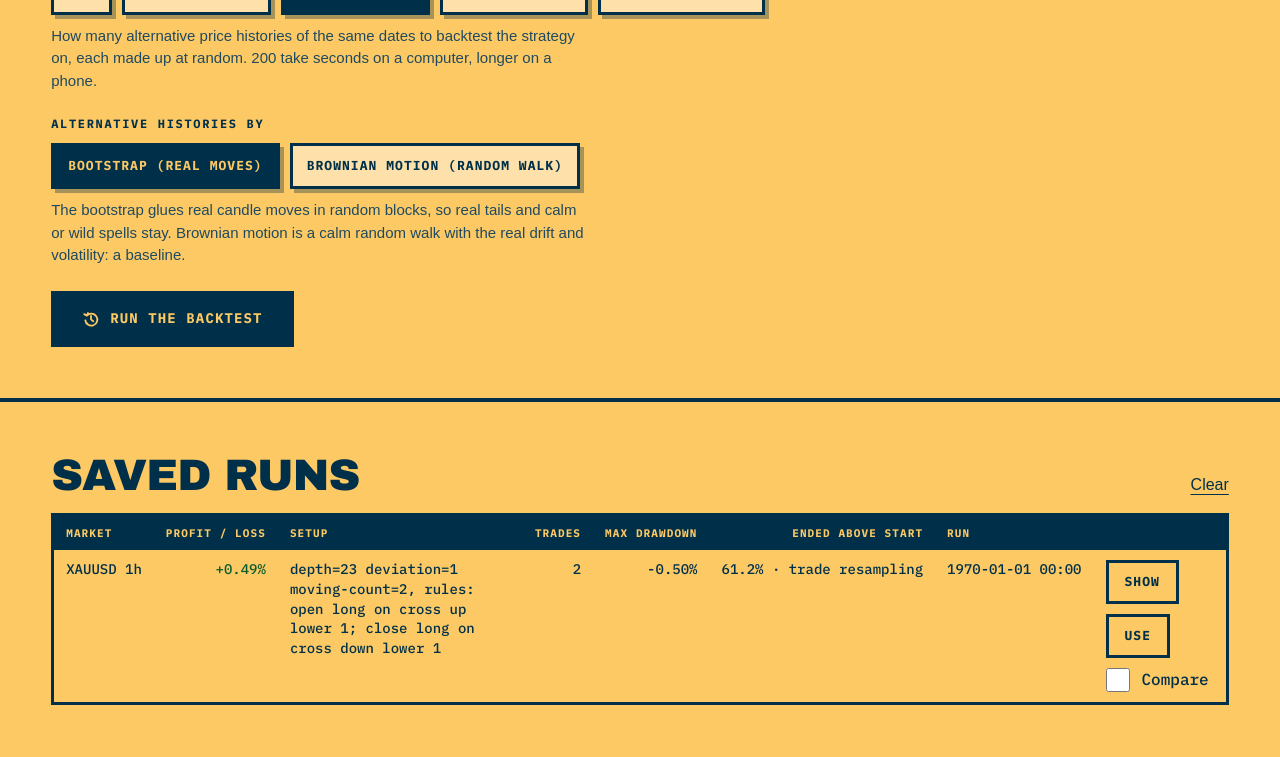
Test case: Backtest › shows a run saved before 2.2.0 with what its Monte Carlo of trades found
(page scrolled)
Expected: the text "61.2% · trade resampling" is shown, [710,550,935,702]
Click the button "Show": click(1142, 582) [1106,560,1179,604]
(page scrolled)
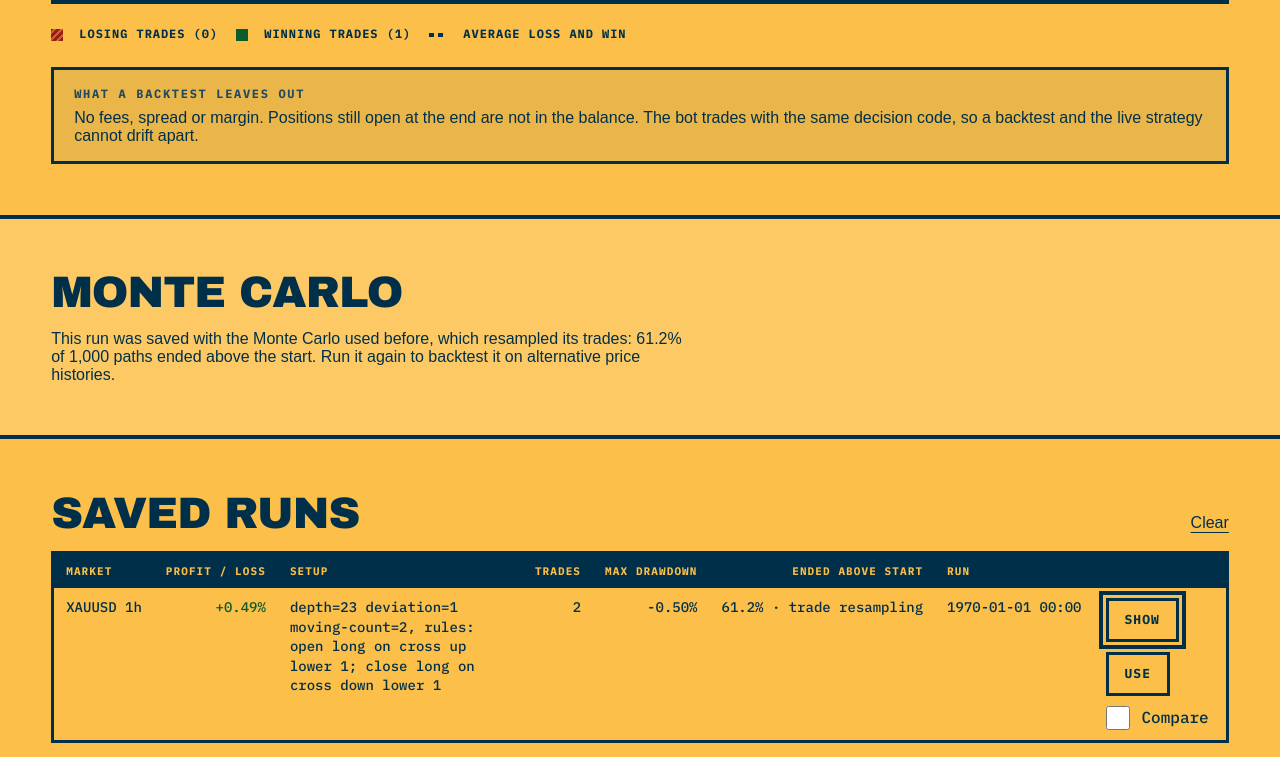
Result: the text "resampled its trades: 61.2% of 1,000 paths ended above the start" is shown at [51,330,691,384]
